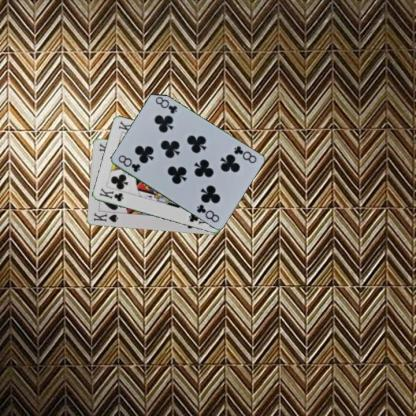8c: (231, 143, 258, 165), (116, 152, 142, 174)
Kc: (97, 185, 125, 203)
Ks: (91, 210, 119, 224)
